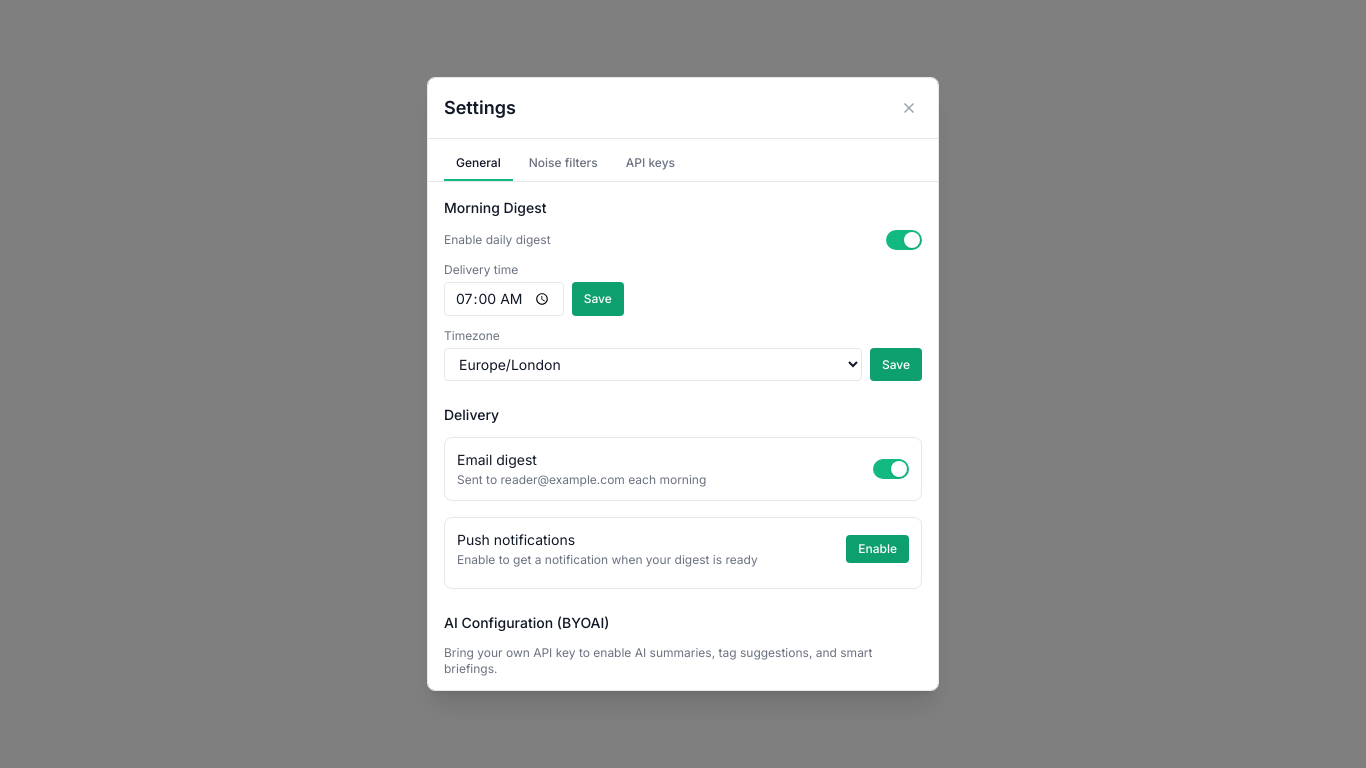
Test case: SettingsPage › falls back to the generic push subscription error when no message is returned
This screenshot has width=1366, height=768.
Expected: the text "Enable to get a notification when your digest is ready" is shown, [457,552,758,568]
Click the button "Enable" at (878, 550), box [846,536,909,564]
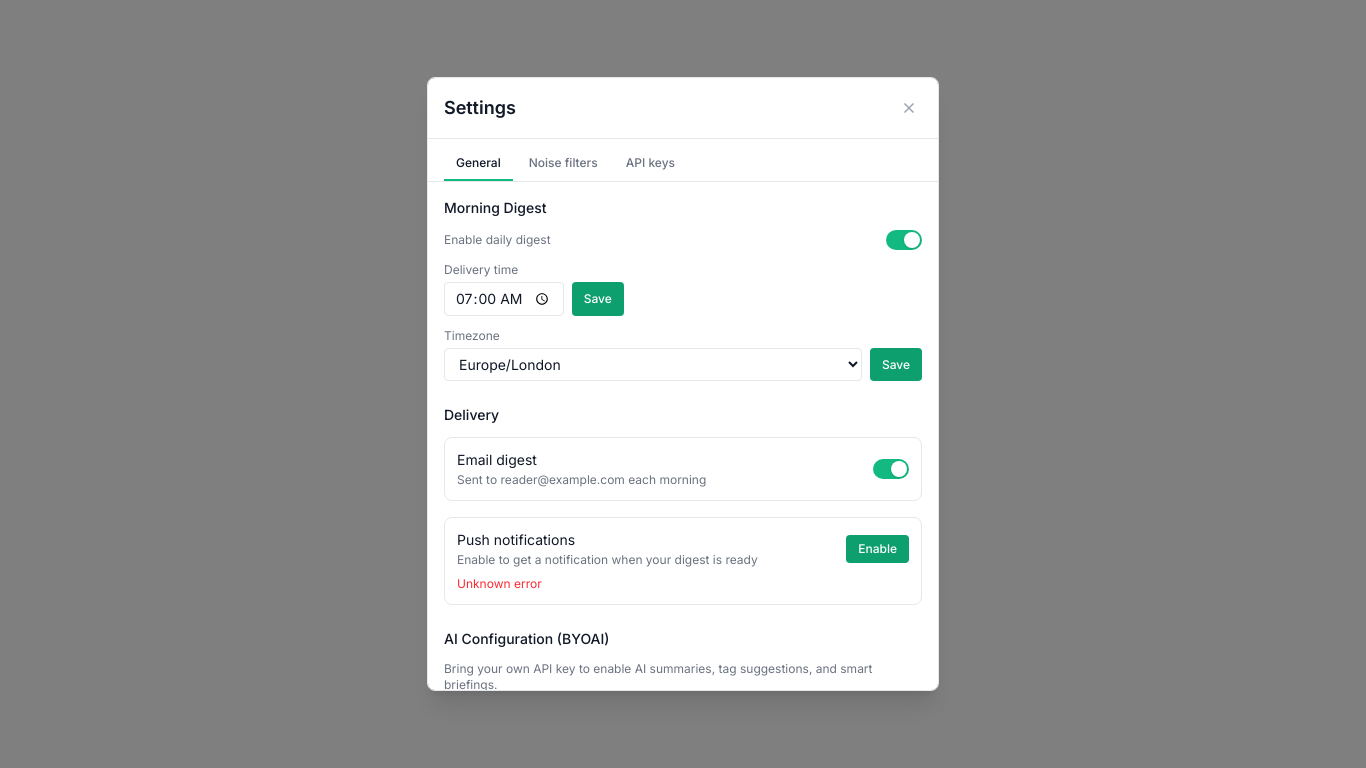
Result: the text "Unknown error" is shown at [457,576,542,592]
